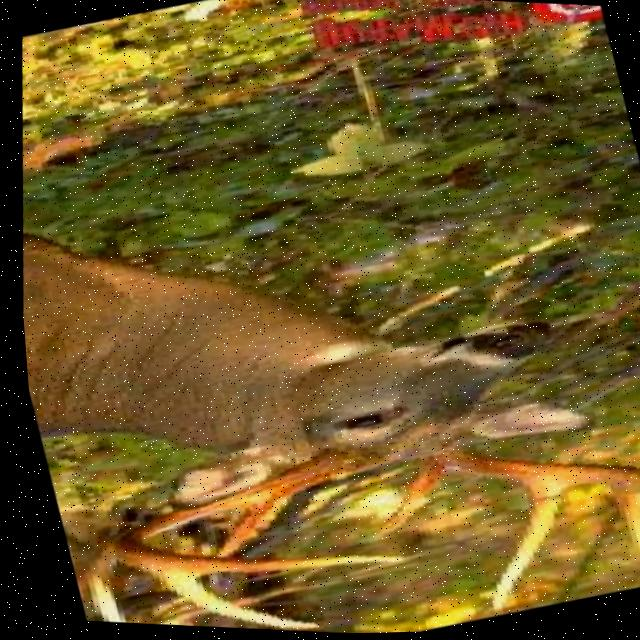L-F: (412, 449, 640, 493)
L-G1: (367, 463, 440, 537)
L-G2: (479, 482, 558, 615)
L-G3: (599, 487, 640, 572)
R-F: (97, 449, 399, 579)
R-G1: (205, 483, 313, 559)
R-G2: (73, 541, 124, 623)
R-G3: (143, 577, 315, 632)
